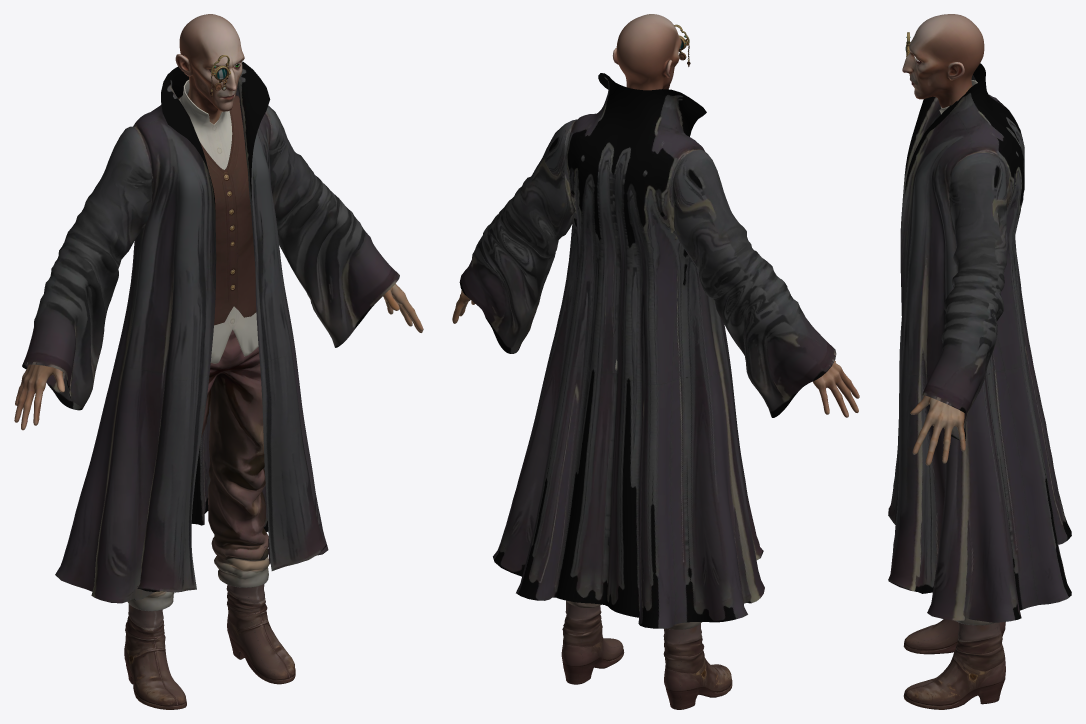
The model's file is baked_web.glb.
3 renders of one model, left to right at view 1: azimuth 30°, elevation 25°; view 2: azimuth 150°, elevation 25°; view 3: azimuth 270°, elevation 25°, orthographic.
Visible parts, largest first — view 1: Retopo_Mesh1.010, Retopo_Mesh1.002, Retopo_Mesh1.009, Retopo_Mesh1.001, Retopo_Mesh1.006, Retopo_Mesh1.003; view 2: Retopo_Mesh1.010, Retopo_Mesh1.009, Retopo_Mesh1.001; view 3: Retopo_Mesh1.010, Retopo_Mesh1.001, Retopo_Mesh1.009.
Part boxes in pixels (<box>): Retopo_Mesh1.010: <box>22,61,399,603</box>; Retopo_Mesh1.002: <box>127,330,269,611</box>; Retopo_Mesh1.009: <box>124,546,295,709</box>; Retopo_Mesh1.001: <box>14,14,423,430</box>; Retopo_Mesh1.006: <box>178,95,256,325</box>; Retopo_Mesh1.003: <box>178,80,258,363</box>; Retopo_Mesh1.010: <box>459,73,836,628</box>; Retopo_Mesh1.009: <box>561,601,732,709</box>; Retopo_Mesh1.001: <box>452,14,859,417</box>; Retopo_Mesh1.010: <box>888,63,1071,622</box>; Retopo_Mesh1.001: <box>902,14,984,465</box>; Retopo_Mesh1.009: <box>903,619,1005,709</box>.
Bounding box in the file's own units: 1.21 × 1.91 × 0.4827.
Materials: 9 (9 with a texture image).
